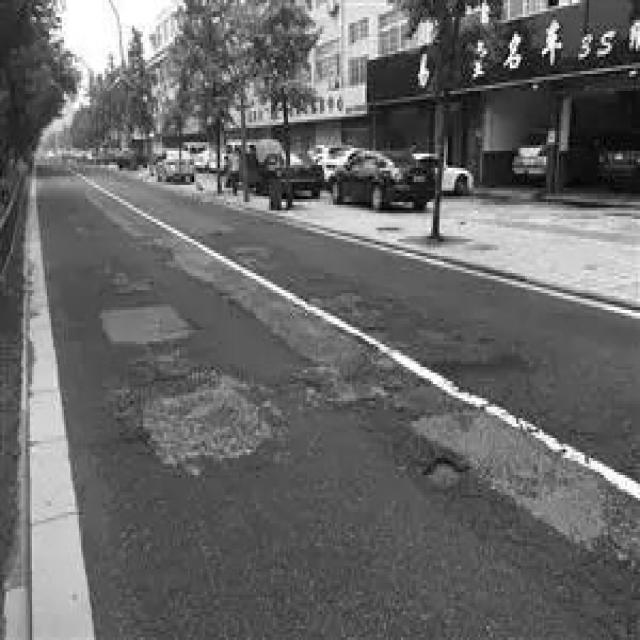Pothole: (124, 370, 277, 469), (418, 455, 461, 484)
